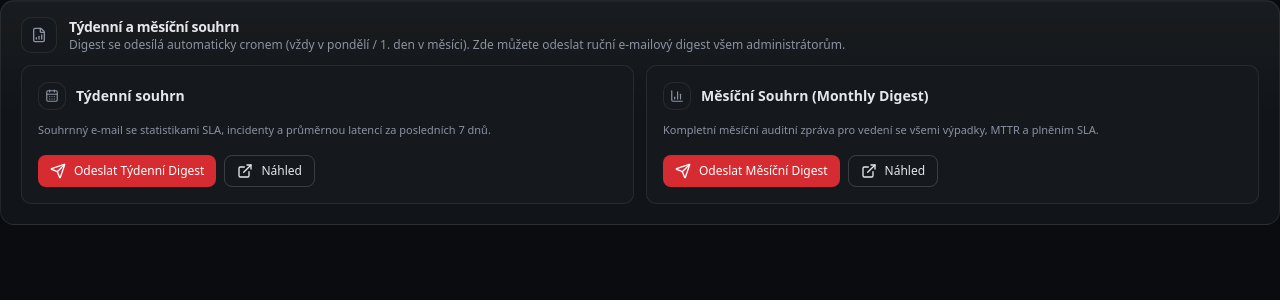
Test: Souhrn na stránce Reporty › odeslání ukáže odpověď serveru
Click the button "Odeslat Měsíční Digest" at (751, 170), box [663,154,840,186]
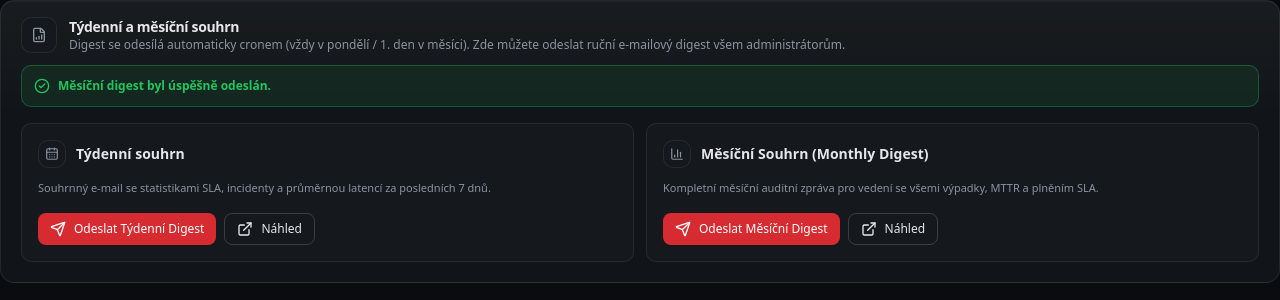
Now the message reads "Měsíční digest byl úspěšně odeslán.", box [58,77,271,94]
